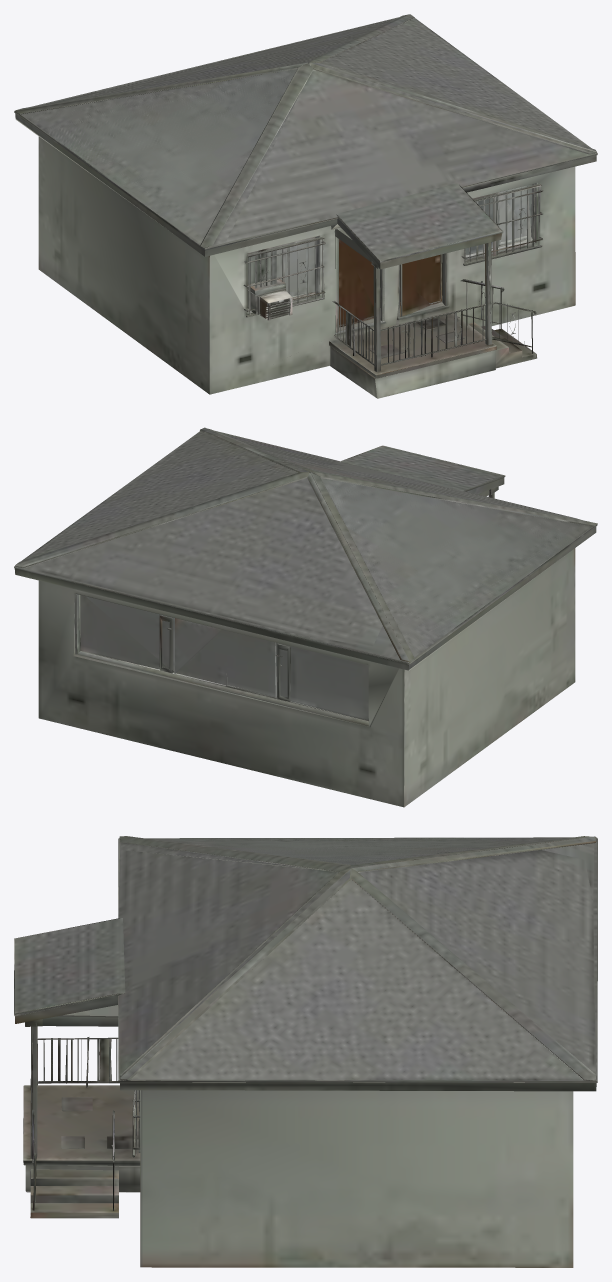
Rendered from house-03-duplex.far.glb.
The picture shows the model from 3 angles, top to bottom: view 1: azimuth 30°, elevation 25°; view 2: azimuth 150°, elevation 25°; view 3: azimuth 270°, elevation 25°; orthographic projection. The views are drawn at different scales.
Bounding box in the file's own units: 0.9351 × 0.5147 × 0.9463.
1 material, 1 textured.
